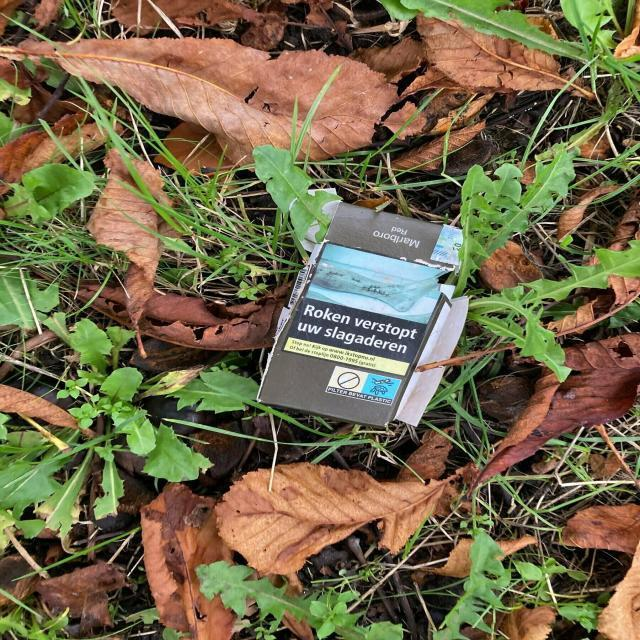Paper: (251, 186, 474, 433)
